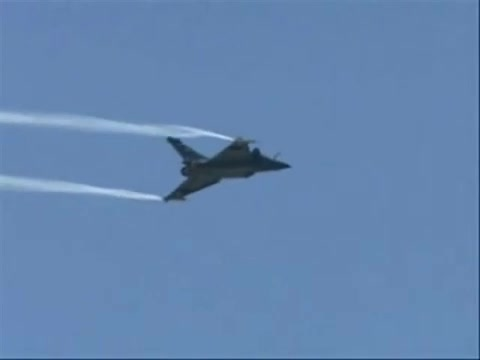aeroplane: (165, 137, 294, 205)
